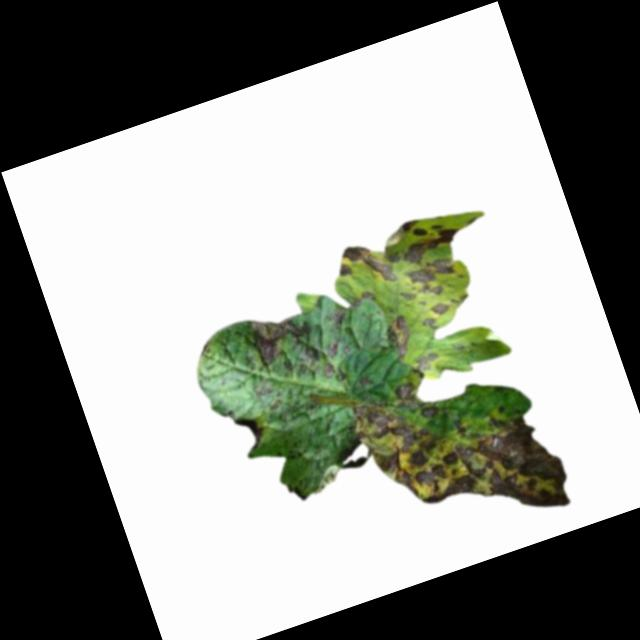Early_blight: (350, 355, 576, 562), (246, 302, 319, 378), (380, 207, 464, 272), (331, 235, 397, 299), (391, 252, 464, 309), (379, 310, 420, 363), (233, 410, 269, 452), (417, 299, 453, 331), (411, 347, 442, 374), (392, 377, 417, 401), (328, 306, 349, 329), (320, 359, 338, 379), (324, 340, 342, 356)
